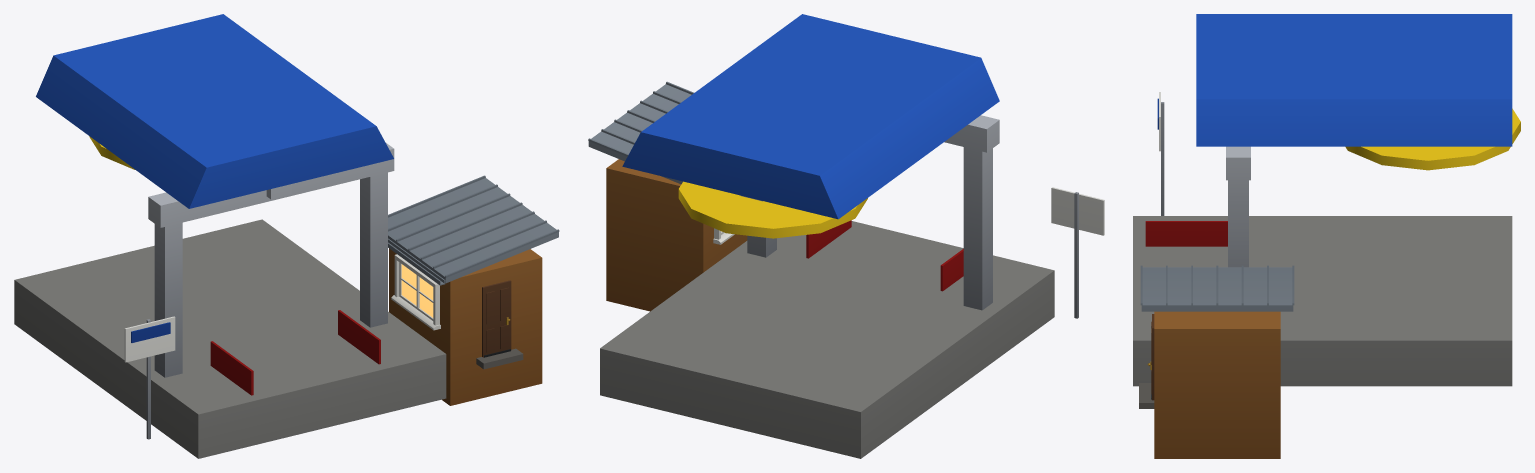
File: Chairlift_Station.fbx
3 renders of one model, left to right at view 1: azimuth 30°, elevation 25°; view 2: azimuth 150°, elevation 25°; view 3: azimuth 270°, elevation 25°, orthographic. The views are drawn at different scales.
Parts seen in each view (by area): view 1: Chairlift_Station_LOD0; view 2: Chairlift_Station_LOD0; view 3: Chairlift_Station_LOD0.
Part boxes in pixels (x1,y1,x2,y2): Chairlift_Station_LOD0: [14, 14, 559, 458]; Chairlift_Station_LOD0: [588, 14, 1104, 458]; Chairlift_Station_LOD0: [1133, 14, 1520, 458].
Size of what is drawn, in the model's own units: 12 by 7.5 by 9.2.
Materials: 1 (1 with a texture image).
